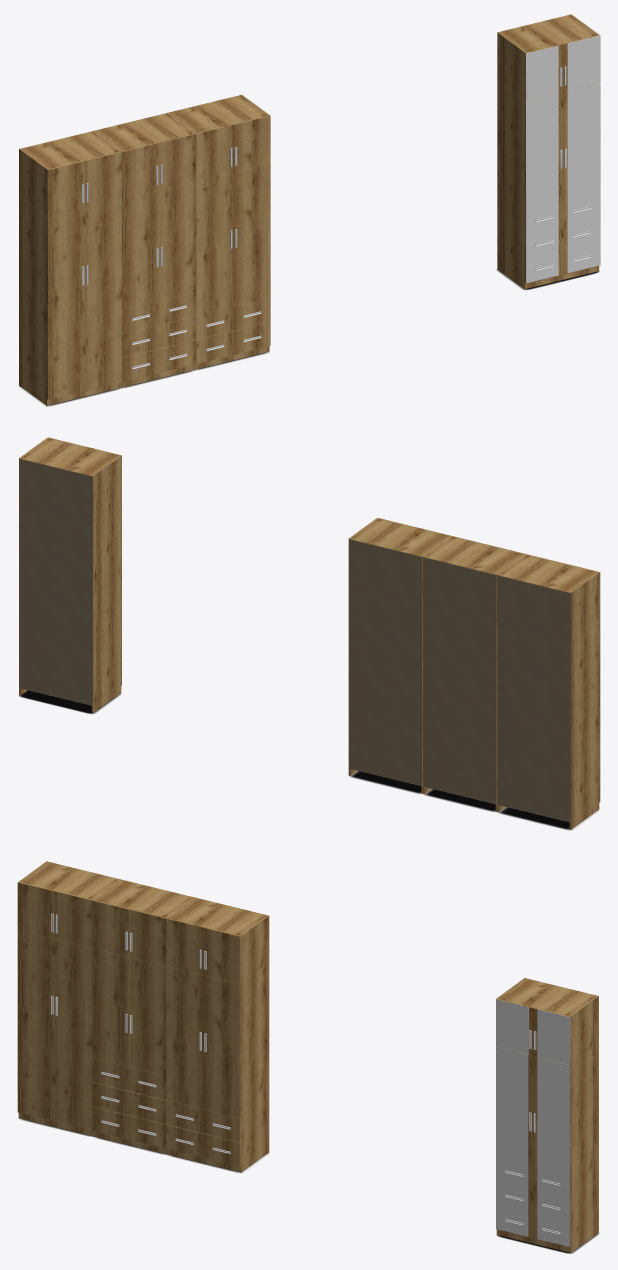
Rendered from ustawienie.glb.
The picture shows the model from 3 angles, top to bottom: view 1: azimuth 30°, elevation 25°; view 2: azimuth 150°, elevation 25°; view 3: azimuth 330°, elevation 25°; orthographic projection.
Parts seen in each view (by area): view 1: ap_szafa8024554_Korpus, ak_szafa80245542szmi_Korpus, ap_szafa8024554_L_Front, ap_szafa8024554_P_Front, aj_szafa80245542sz_P_Front, aj_szafa80245542sz_L_Front, ak_szafa80245542szmi_L_Mirror, ak_szafa80245542szmi_P_Mirror, am_szafa80245543sz_L_Front, am_szafa80245543sz_P_Front, aq_szafa8024554mirro_P_Mirror, am_szafa80245543sz_Korpus (+17 smaller); view 2: ak_szafa80245542szmi_Korpus, ap_szafa8024554_Korpus, am_szafa80245543sz_Korpus, aj_szafa80245542sz_Korpus, ap_szafa8024554_Shadow, ak_szafa80245542szmi_Shadow, am_szafa80245543sz_Shadow, aj_szafa80245542sz_Shadow; view 3: aj_szafa80245542sz_Korpus, ak_szafa80245542szmi_Korpus, ap_szafa8024554_L_Front, ap_szafa8024554_P_Front, aj_szafa80245542sz_P_Front, aj_szafa80245542sz_L_Front, ak_szafa80245542szmi_L_Mirror, am_szafa80245543sz_L_Front, am_szafa80245543sz_P_Front, ak_szafa80245542szmi_P_Mirror, ap_szafa8024554_Korpus, aq_szafa8024554mirro_P_Mirror (+18 smaller).
Part boxes in pixels (box(x1,y1,x2,y2)): ap_szafa8024554_Korpus: box(19, 131, 121, 406); ak_szafa80245542szmi_Korpus: box(497, 14, 599, 289); ap_szafa8024554_L_Front: box(47, 209, 84, 399); ap_szafa8024554_P_Front: box(85, 200, 121, 390); aj_szafa80245542sz_P_Front: box(233, 163, 270, 306); aj_szafa80245542sz_L_Front: box(196, 172, 233, 315); ak_szafa80245542szmi_L_Mirror: box(526, 93, 558, 234); ak_szafa80245542szmi_P_Mirror: box(567, 83, 599, 224); am_szafa80245543sz_L_Front: box(122, 190, 159, 309); am_szafa80245543sz_P_Front: box(159, 182, 196, 300); aq_szafa8024554mirro_P_Mirror: box(567, 97, 599, 272); am_szafa80245543sz_Korpus: box(93, 112, 195, 388); ak_szafa80245542szmi_Korpus: box(19, 438, 121, 713); ap_szafa8024554_Korpus: box(497, 554, 599, 829); am_szafa80245543sz_Korpus: box(423, 536, 524, 811); aj_szafa80245542sz_Korpus: box(348, 518, 450, 793); ap_szafa8024554_Shadow: box(498, 807, 597, 829); ak_szafa80245542szmi_Shadow: box(20, 690, 119, 713); am_szafa80245543sz_Shadow: box(424, 789, 495, 811); aj_szafa80245542sz_Shadow: box(349, 771, 421, 793); aj_szafa80245542sz_Korpus: box(167, 897, 269, 1172); ak_szafa80245542szmi_Korpus: box(496, 978, 598, 1253); ap_szafa8024554_L_Front: box(17, 930, 54, 1121); ap_szafa8024554_P_Front: box(55, 939, 91, 1130); aj_szafa80245542sz_P_Front: box(203, 975, 241, 1118); aj_szafa80245542sz_L_Front: box(166, 966, 203, 1109); ak_szafa80245542szmi_L_Mirror: box(496, 1047, 528, 1188); am_szafa80245543sz_L_Front: box(92, 948, 129, 1066); am_szafa80245543sz_P_Front: box(129, 957, 166, 1075); ak_szafa80245542szmi_P_Mirror: box(537, 1057, 569, 1197); ap_szafa8024554_Korpus: box(18, 861, 120, 1136); aq_szafa8024554mirro_P_Mirror: box(537, 1066, 569, 1246).
Size of the model in its own units: 6.02 by 2.45 by 0.5892.
12 materials, 8 textured.
